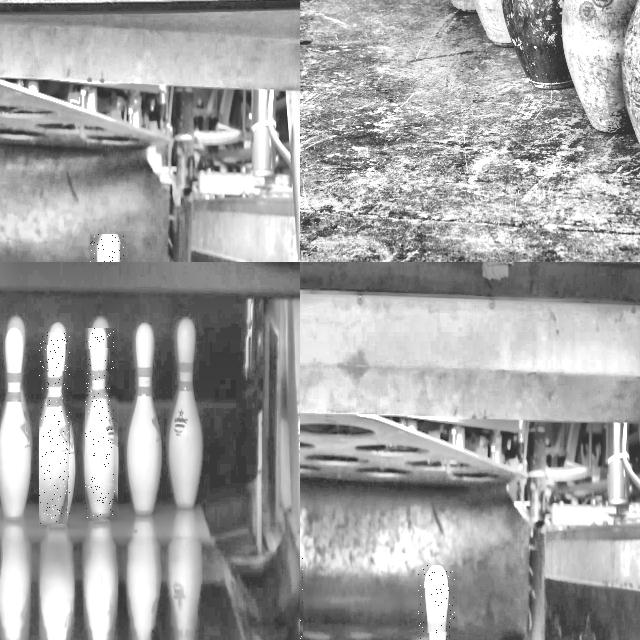bowling-pins: (563, 0, 638, 134), (128, 322, 162, 514), (169, 318, 202, 508), (502, 0, 572, 89), (39, 332, 70, 526), (0, 328, 31, 520), (85, 329, 115, 518), (428, 565, 451, 640)
